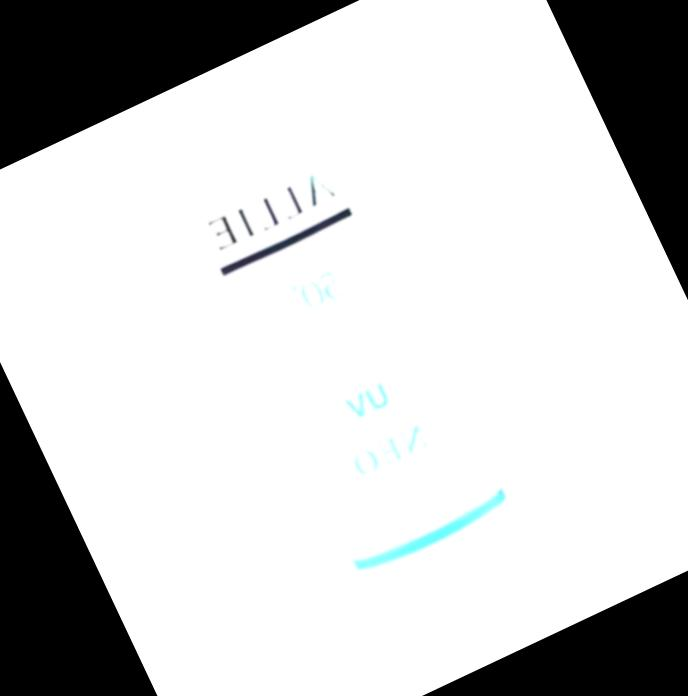cosmetic: (121, 52, 580, 675)
